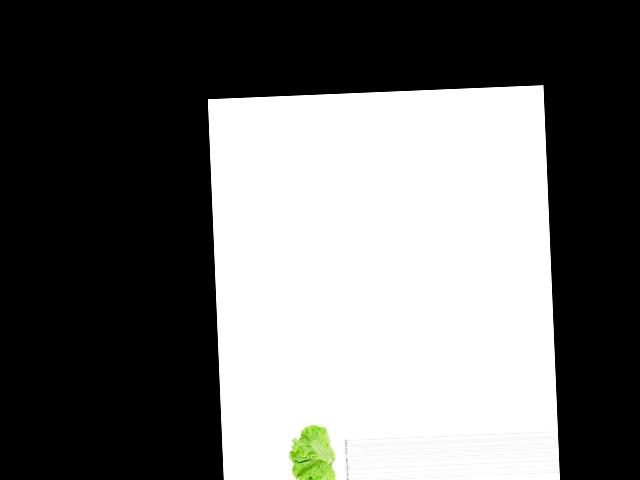lettuce: (287, 422, 346, 480)
